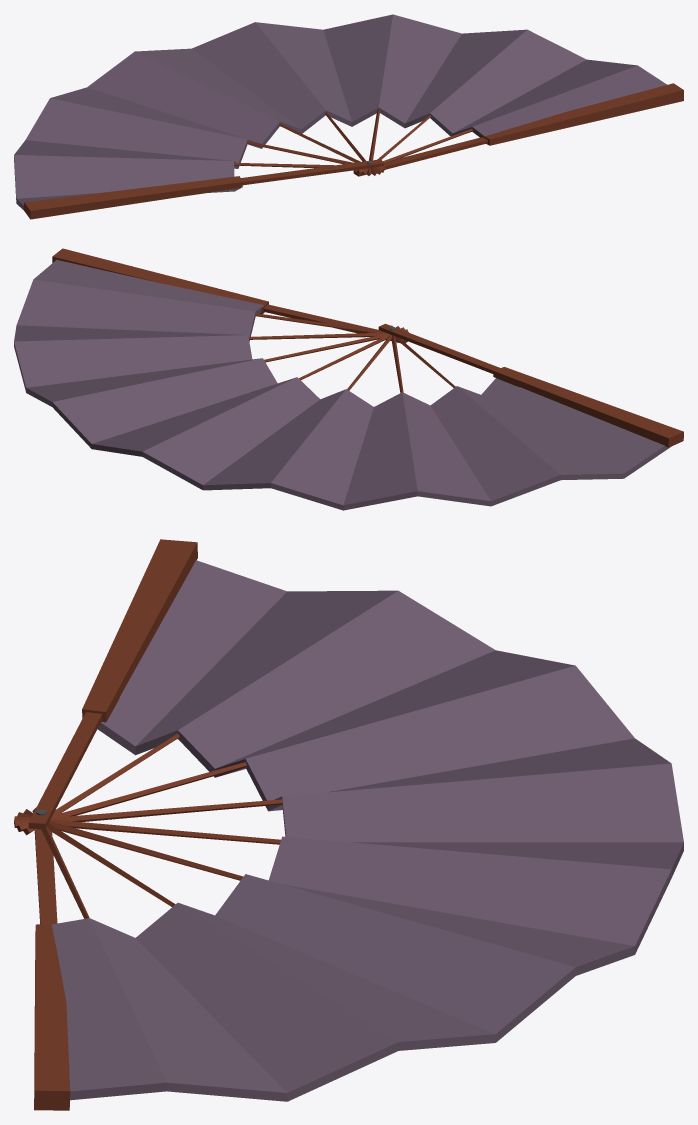
3 views of the same model, one above another, from view 1: azimuth 30°, elevation 25°; view 2: azimuth 150°, elevation 25°; view 3: azimuth 270°, elevation 25° (orthographic). The views are drawn at different scales.
Visible parts, largest first — view 1: pCylinder143.001; view 2: pCylinder143.001; view 3: pCylinder143.001.
Part boxes in pixels (x1,y1,x2,y2): pCylinder143.001: (14, 14, 683, 219); pCylinder143.001: (14, 248, 683, 510); pCylinder143.001: (14, 539, 683, 1110).
Size of the model in its own units: 50.17 by 1.85 by 26.13.
